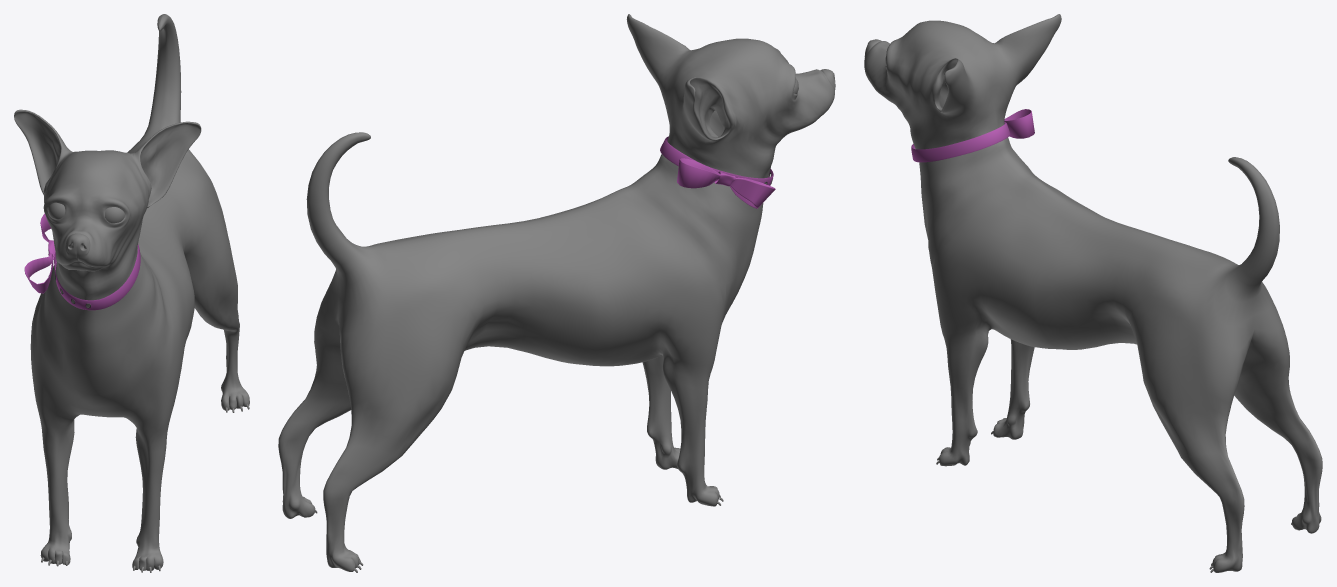
File: dog.FBX
The picture shows the model from 3 angles, left to right: view 1: azimuth 30°, elevation 25°; view 2: azimuth 150°, elevation 25°; view 3: azimuth 270°, elevation 25°; orthographic projection. The views are drawn at different scales.
Visible parts, largest first — view 1: dog; view 2: dog; view 3: dog.
Part boxes in pixels (left/top/right/bottom): dog: left=14, top=14, right=249, bottom=572; dog: left=278, top=14, right=835, bottom=572; dog: left=864, top=14, right=1322, bottom=572.
Size of the model in its own units: 33.06 by 37.75 by 37.78.
